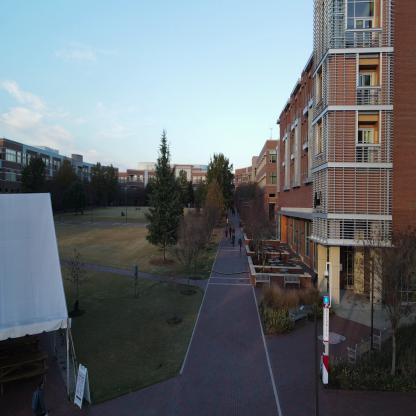Wolf Ridge: (276, 0, 415, 342)
